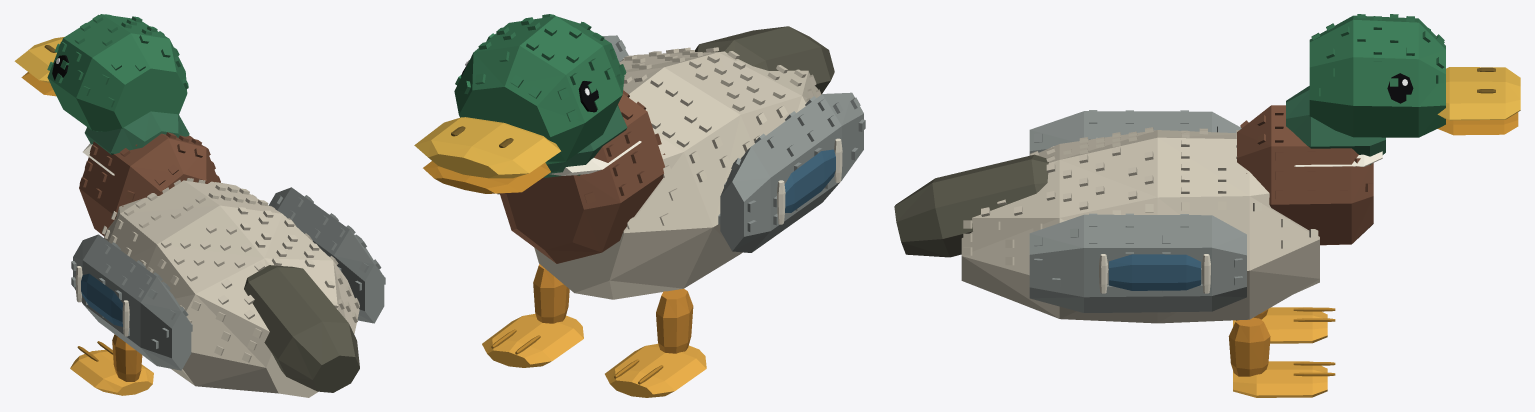
Rendered from Duck.fbx.
The picture shows the model from 3 angles, left to right: view 1: azimuth 30°, elevation 25°; view 2: azimuth 150°, elevation 25°; view 3: azimuth 270°, elevation 25°; orthographic projection. The views are drawn at different scales.
Visible parts, largest first — view 1: Import3D_Core, Import3D_Head, Import3D_Tail, Import3D_WingL, Import3D_WingR, Import3D_WebFoot-1, Import3D_WingBluePatch-1, Import3D_LegFL, Import3D_BillUpper, Import3D_BillLower; view 2: Import3D_Core, Import3D_Head, Import3D_WingL, Import3D_BillUpper, Import3D_Tail, Import3D_WebFoot1, Import3D_WebFoot-1, Import3D_LegFL, Import3D_WingBluePatch-1, Import3D_BillLower, Import3D_LegFR, Import3D_WhiteCollar (+1 smaller); view 3: Import3D_Core, Import3D_WingR, Import3D_Head, Import3D_Tail, Import3D_WingL, Import3D_BillUpper, Import3D_WingBluePatch1, Import3D_WebFoot1, Import3D_LegFR, Import3D_WebFoot-1, Import3D_BillLower.
Part boxes in pixels (bbox=[...]): Import3D_Core: bbox=[79, 111, 359, 397]; Import3D_Head: bbox=[44, 14, 188, 131]; Import3D_Tail: bbox=[244, 265, 359, 392]; Import3D_WingL: bbox=[71, 234, 192, 370]; Import3D_WingR: bbox=[269, 187, 385, 323]; Import3D_WebFoot-1: bbox=[70, 349, 153, 395]; Import3D_WingBluePatch-1: bbox=[81, 273, 122, 326]; Import3D_LegFL: bbox=[77, 334, 142, 381]; Import3D_BillUpper: bbox=[14, 37, 64, 83]; Import3D_BillLower: bbox=[21, 72, 56, 96]; Import3D_Core: bbox=[499, 47, 821, 299]; Import3D_Head: bbox=[451, 14, 626, 164]; Import3D_WingL: bbox=[718, 92, 865, 252]; Import3D_BillUpper: bbox=[414, 117, 560, 178]; Import3D_Tail: bbox=[695, 26, 834, 94]; Import3D_WebFoot1: bbox=[482, 313, 583, 367]; Import3D_WebFoot-1: bbox=[605, 343, 706, 397]; Import3D_LegFL: bbox=[614, 288, 693, 384]; Import3D_WingBluePatch-1: bbox=[784, 149, 835, 212]; Import3D_BillLower: bbox=[423, 161, 550, 193]; Import3D_LegFR: bbox=[491, 264, 569, 354]; Import3D_WhiteCollar: bbox=[549, 141, 641, 175]; Import3D_Core: bbox=[961, 86, 1385, 323]; Import3D_WingR: bbox=[1029, 213, 1246, 312]; Import3D_Head: bbox=[1309, 14, 1495, 137]; Import3D_Tail: bbox=[894, 154, 1048, 257]; Import3D_WingL: bbox=[1029, 110, 1241, 155]; Import3D_BillUpper: bbox=[1437, 67, 1520, 120]; Import3D_WingBluePatch1: bbox=[1109, 254, 1200, 290]; Import3D_WebFoot1: bbox=[1233, 361, 1327, 397]; Import3D_LegFR: bbox=[1228, 317, 1335, 376]; Import3D_WebFoot-1: bbox=[1233, 307, 1327, 343]; Import3D_BillLower: bbox=[1437, 112, 1518, 135].
Bounding box in the file's own units: 110 × 136 × 225.
1 material, 1 textured.
